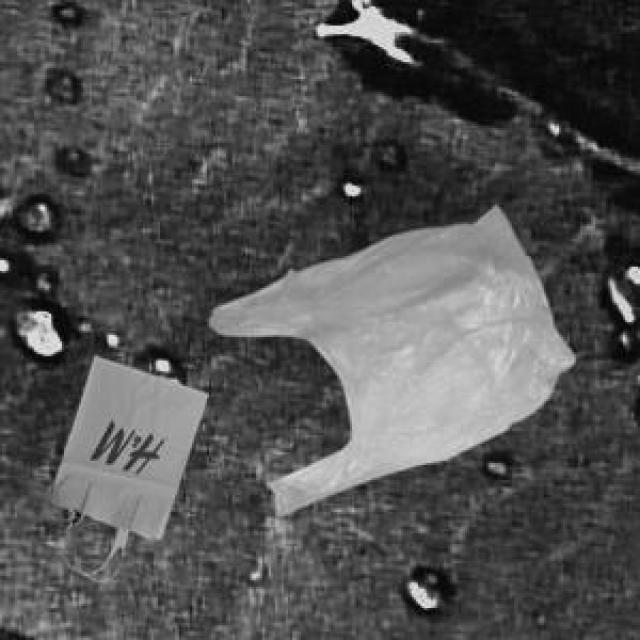paper: (43, 352, 205, 550)
